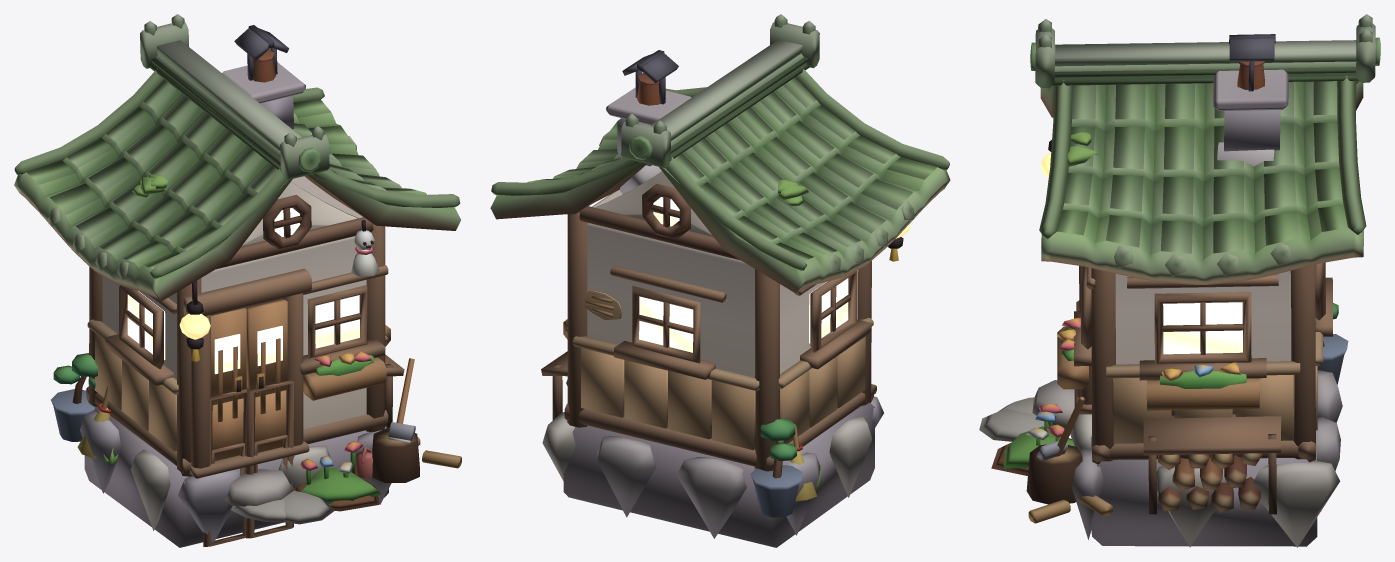
Rendered from home-1-v4.glb.
3 views of the same model, side by side, from view 1: azimuth 30°, elevation 25°; view 2: azimuth 150°, elevation 25°; view 3: azimuth 270°, elevation 25° (orthographic). The views are drawn at different scales.
Parts seen in each view (by area): view 1: home, window_glow; view 2: home, window_glow; view 3: home, window_glow.
Part boxes in pixels (x1,y1,x2,y2): home: [14, 14, 461, 547]; window_glow: [127, 208, 359, 374]; home: [490, 14, 950, 547]; window_glow: [639, 197, 910, 352]; home: [979, 14, 1380, 547]; window_glow: [1040, 152, 1242, 354].
Bounding box in the file's own units: 2.28 × 3.01 × 2.28.
